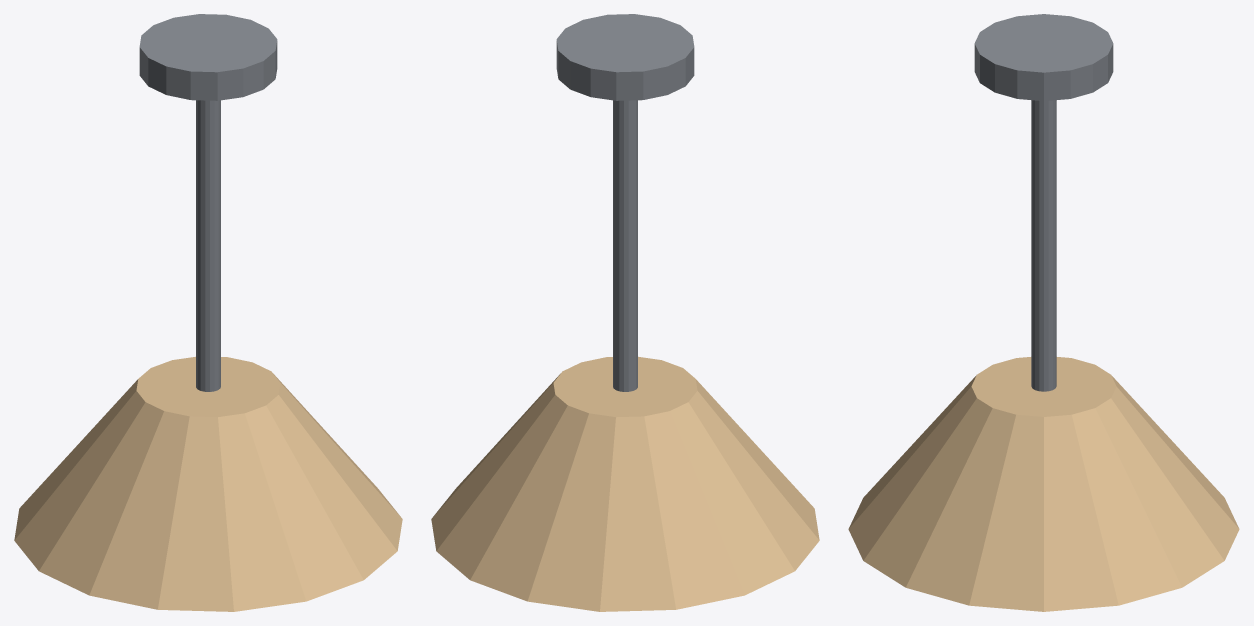
File: pendant-lamp.gltf
3 renders of one model, left to right at view 1: azimuth 30°, elevation 25°; view 2: azimuth 150°, elevation 25°; view 3: azimuth 270°, elevation 25°, orthographic.
Visible parts, largest first — view 1: Brushed brass pendant shade, Ceiling attachment, Ceiling suspension; view 2: Brushed brass pendant shade, Ceiling attachment, Ceiling suspension; view 3: Brushed brass pendant shade, Ceiling attachment, Ceiling suspension.
Part boxes in pixels (box(x1,y1,x2,y2)): Brushed brass pendant shade: box(14, 356, 402, 611); Ceiling attachment: box(139, 14, 277, 100); Ceiling suspension: box(196, 38, 220, 391); Brushed brass pendant shade: box(431, 356, 819, 611); Ceiling attachment: box(556, 14, 694, 100); Ceiling suspension: box(613, 38, 637, 391); Brushed brass pendant shade: box(848, 357, 1239, 611); Ceiling attachment: box(974, 14, 1113, 101); Ceiling suspension: box(1031, 38, 1056, 391).
Bounding box in the file's own units: 0.62 × 0.872 × 0.62.
